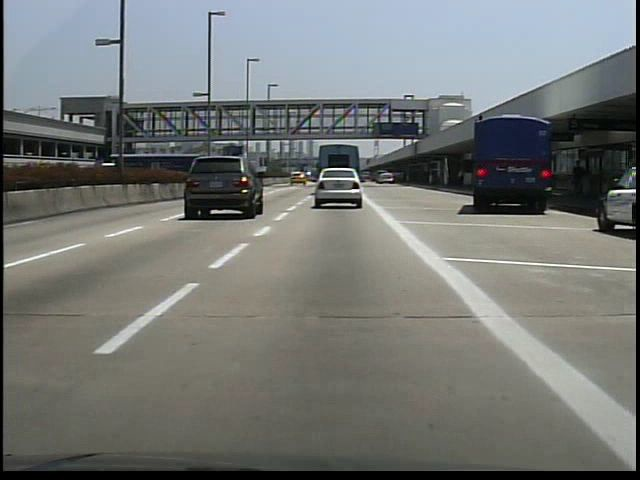person: (568, 155, 588, 208)
